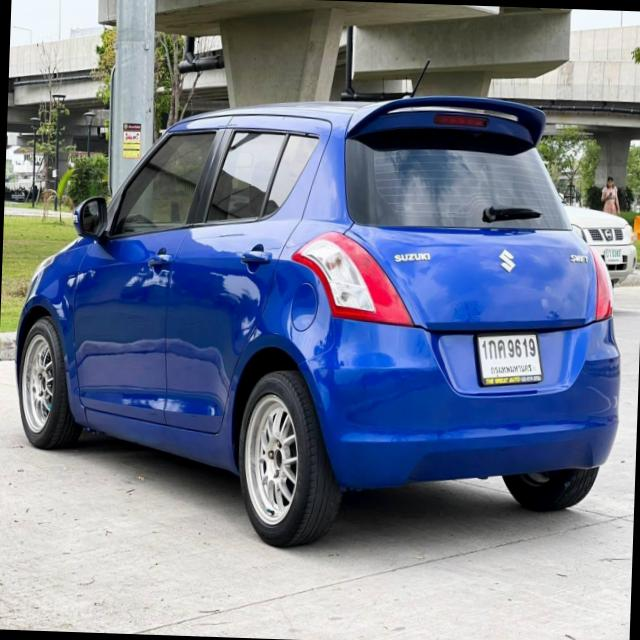license_plate: (470, 328, 548, 390)
